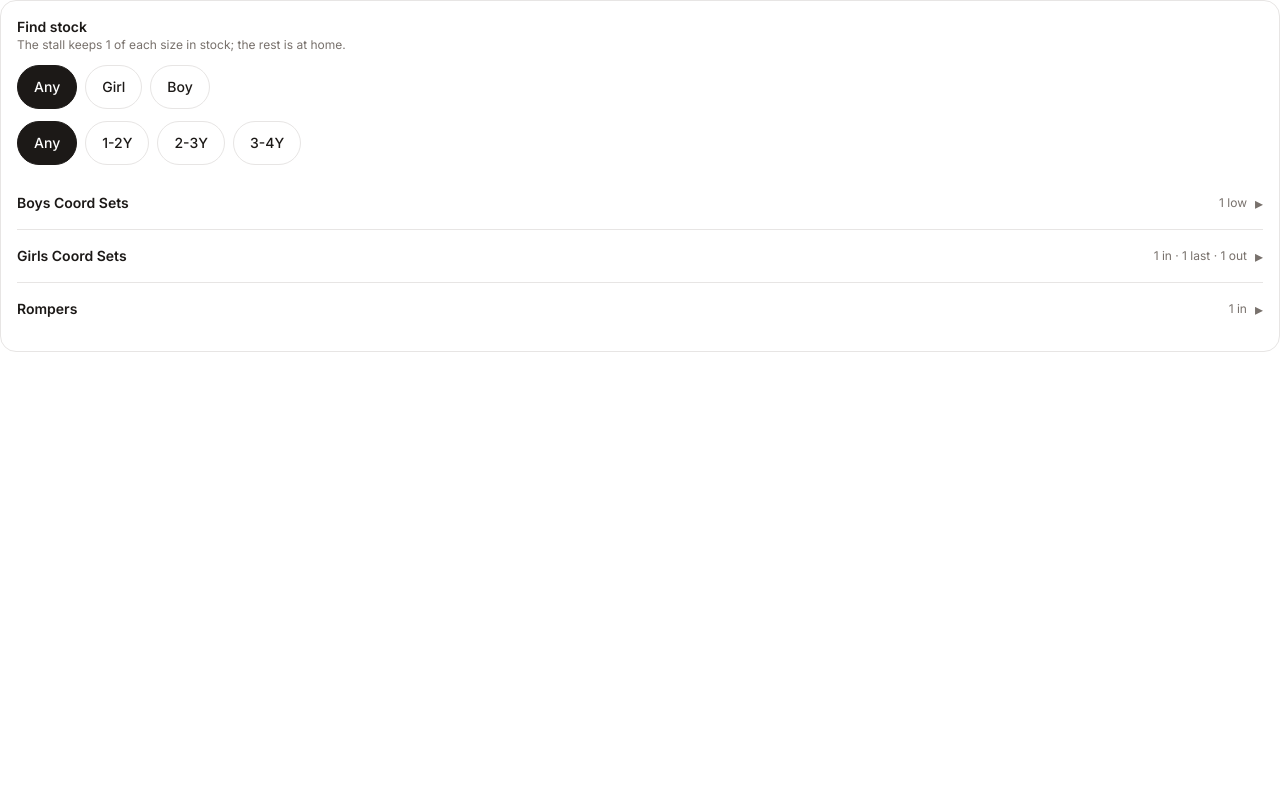
Scenario: StockFinder › opens everything for a picked size, in stock first, and keeps a collapse until the size changes
Click the radio button labelled "2-3Y". click: [191, 143]
box: [157,121,225,165]
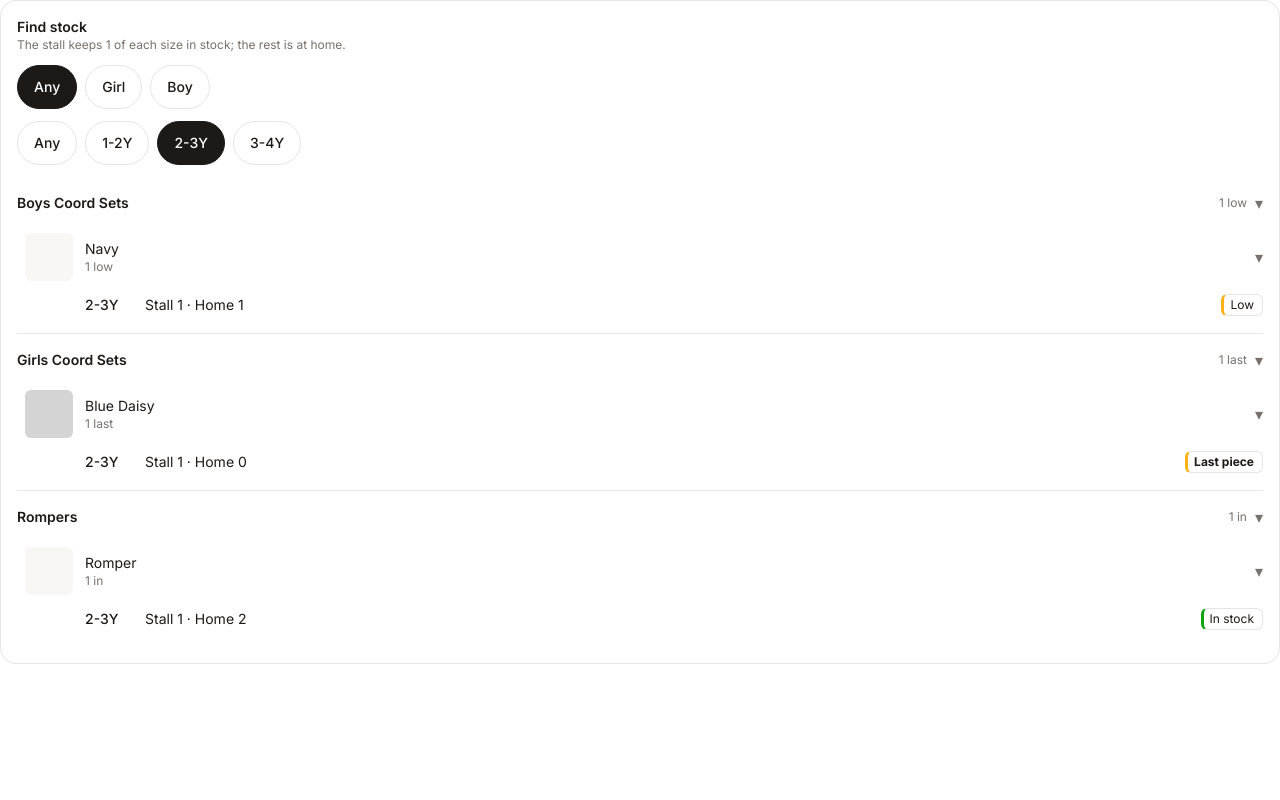
Now the list item "2-3Y Stall 1 · Home 0 Last piece" is shown, box [85,446,1263,478]
Now the list item "2-3Y Stall 1 · Home 1 Low" is shown, box [85,289,1263,321]
Now the list item "2-3Y Stall 1 · Home 2 In stock" is shown, box [85,603,1263,635]
A collapse survives a gender change…
Click the button "Romper 1 in ▾". click: [49, 571]
box: [25,547,1263,595]
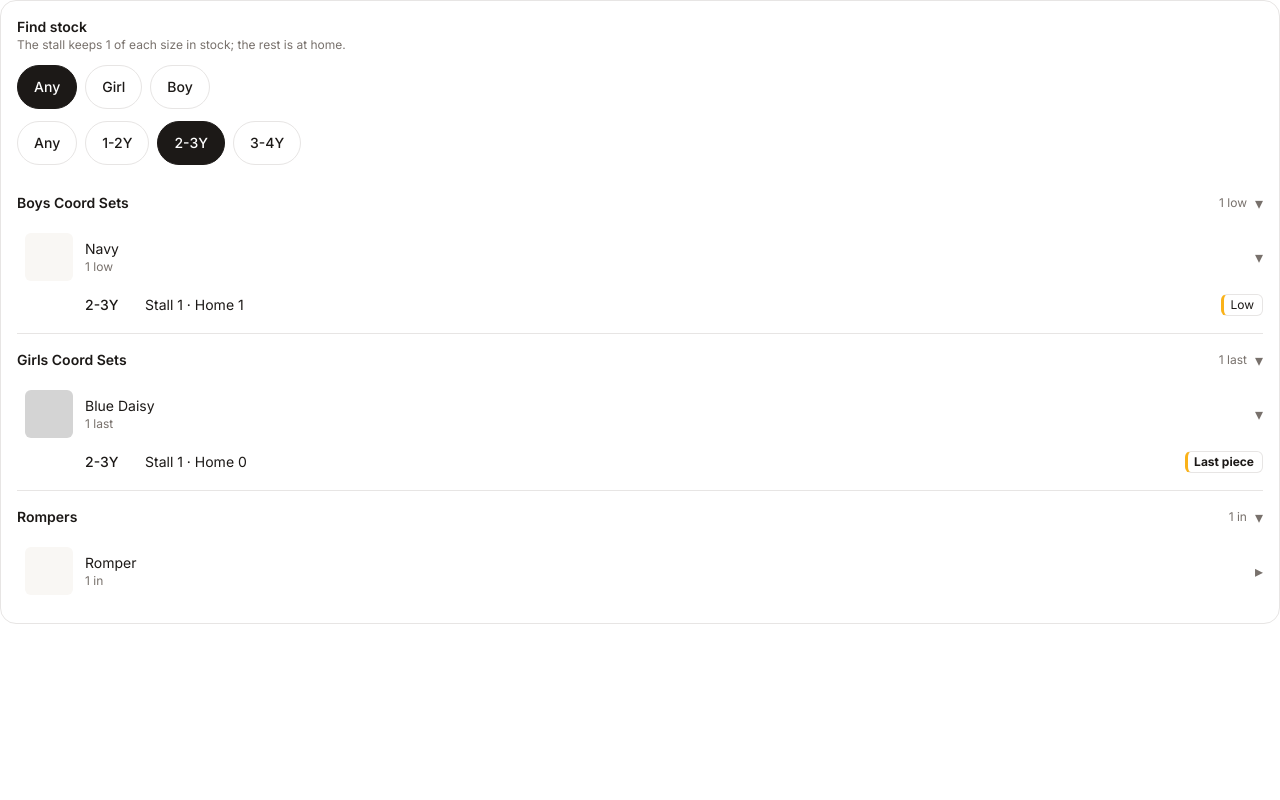
Click the radio button labelled "Girl". click: [114, 87]
box: [85,65,142,109]
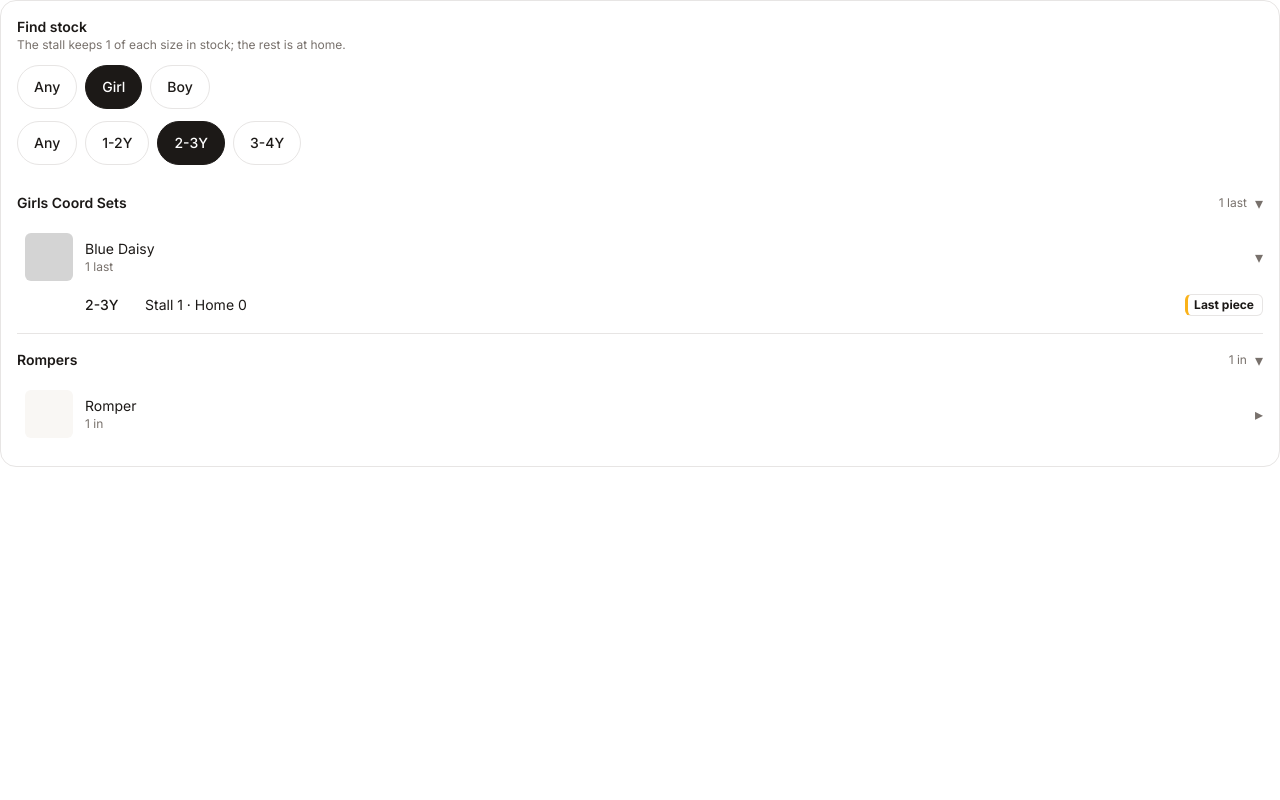
…and a size change (even back to the same size) opens everything again.
Click the radio button labelled "1-2Y". click: [117, 143]
box: [85,121,150,165]
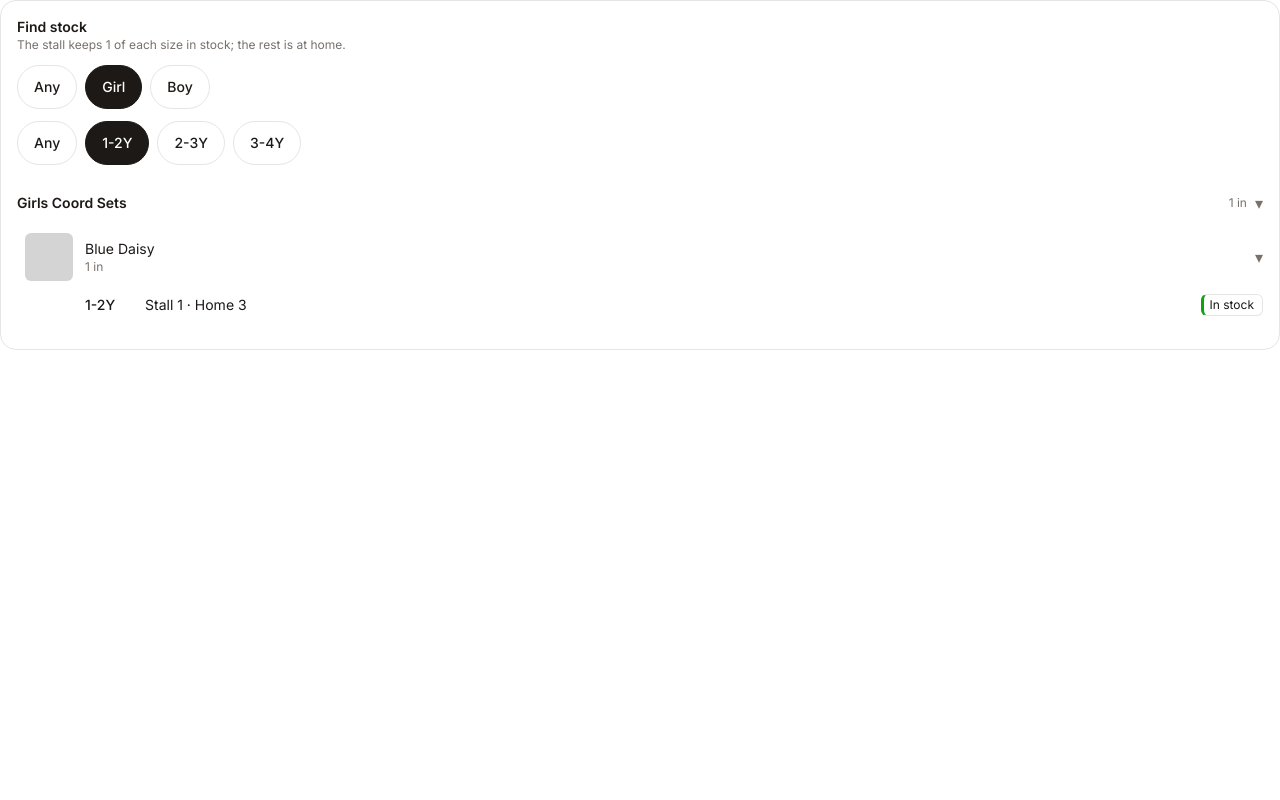
Click the radio button labelled "2-3Y". click: [191, 143]
box: [157,121,225,165]
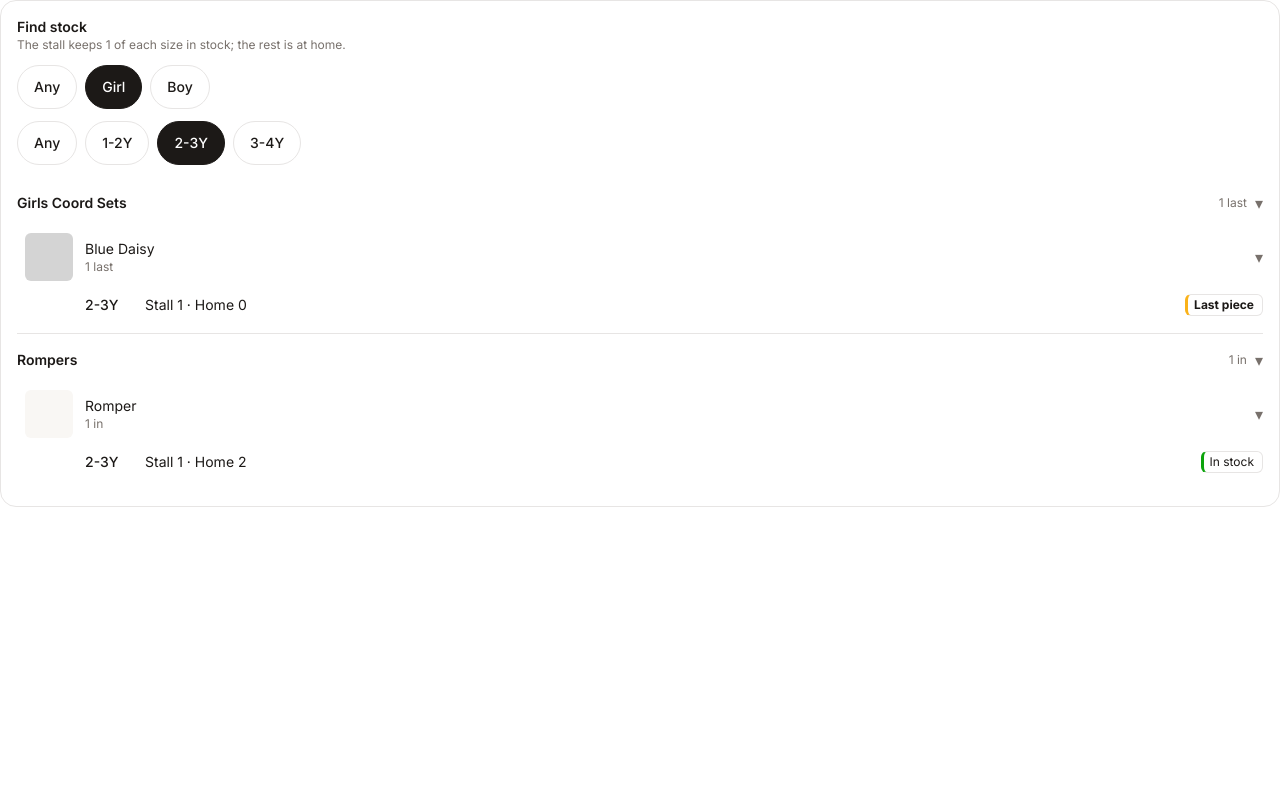
Now the list named "Romper sizes" is shown, box [25,446,1263,478]
